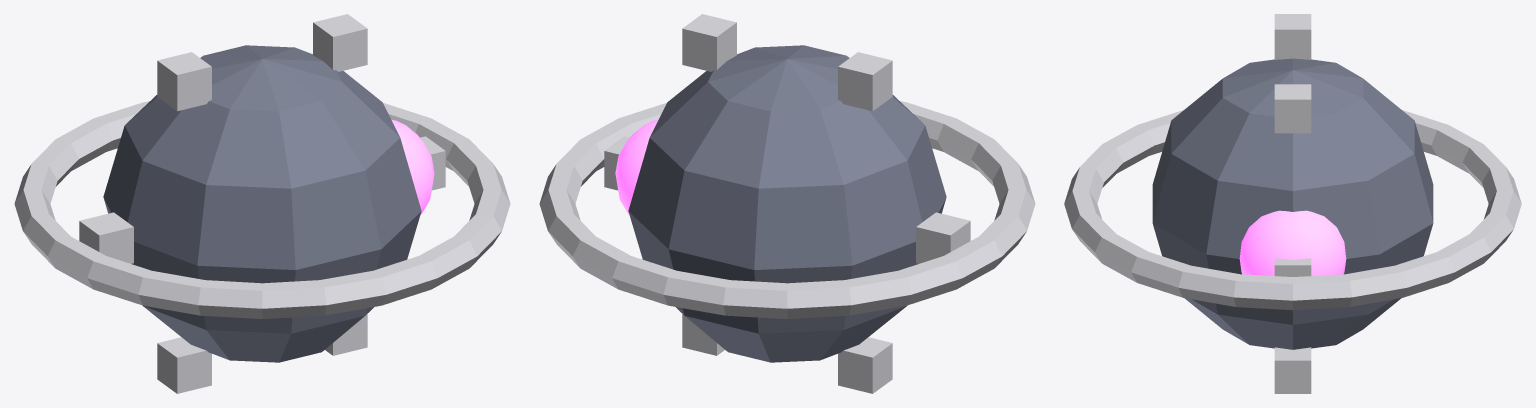
The model's file is boss_sentinel.glb.
3 renders of one model, left to right at view 1: azimuth 30°, elevation 25°; view 2: azimuth 150°, elevation 25°; view 3: azimuth 270°, elevation 25°, orthographic. The views are drawn at different scales.
Visible parts, largest first — view 1: boss_sentinel; view 2: boss_sentinel; view 3: boss_sentinel.
Boxes of the visible parts, x1=… form: boss_sentinel: x1=14, y1=14, x2=510, y2=393; boss_sentinel: x1=539, y1=14, x2=1035, y2=393; boss_sentinel: x1=1064, y1=14, x2=1521, y2=393.
Bounding box in the file's own units: 4.96 × 3.52 × 4.96.
